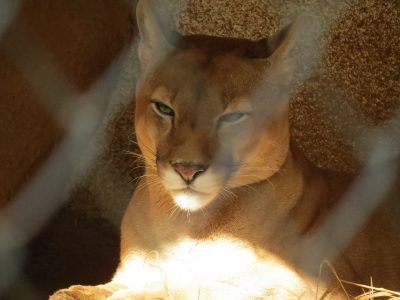OncaParda: (43, 2, 391, 295)
